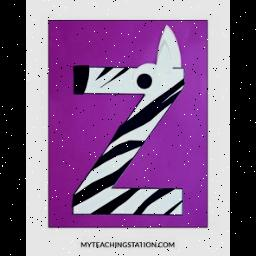z: (68, 63, 186, 219)
